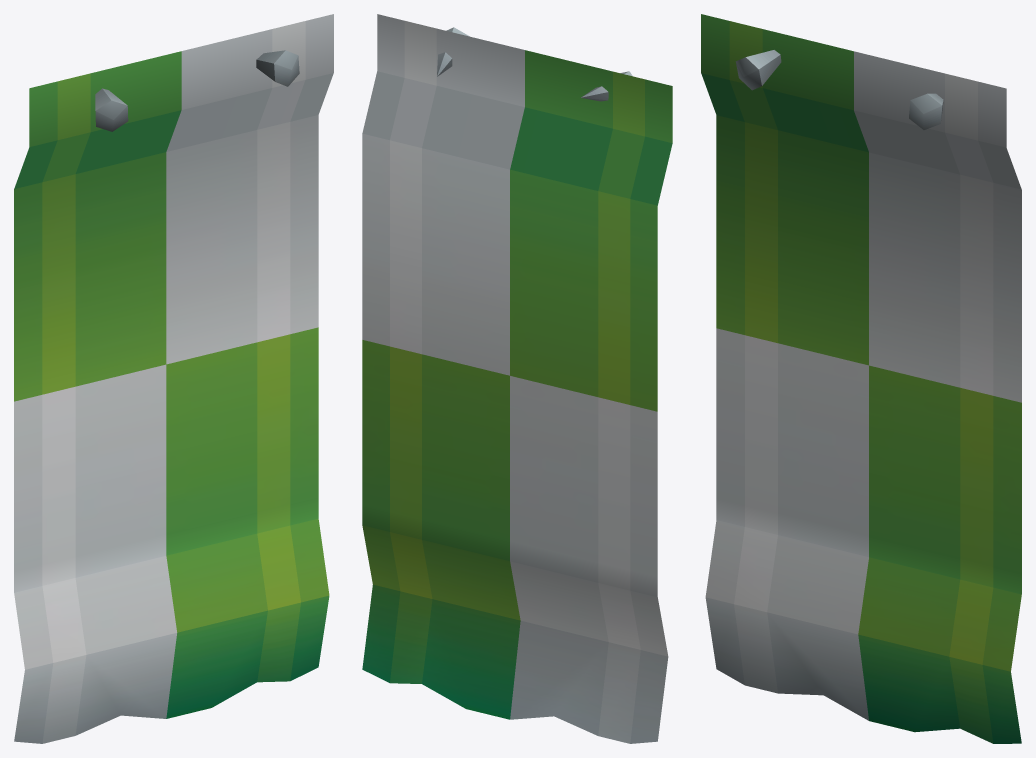
File: banner_patterna_green.glb
3 views of the same model, side by side, from view 1: azimuth 30°, elevation 25°; view 2: azimuth 150°, elevation 25°; view 3: azimuth 330°, elevation 25° (orthographic). The views are drawn at different scales.
Visible parts, largest first — view 1: banner_patternA_green; view 2: banner_patternA_green; view 3: banner_patternA_green.
Part boxes in pixels (x1,y1,x2,y2): banner_patternA_green: [14, 14, 333, 743]; banner_patternA_green: [362, 14, 672, 743]; banner_patternA_green: [701, 14, 1021, 743].
Bounding box in the file's own units: 1.5 × 3.2 × 0.3117.
Materials: 1 (1 with a texture image).
